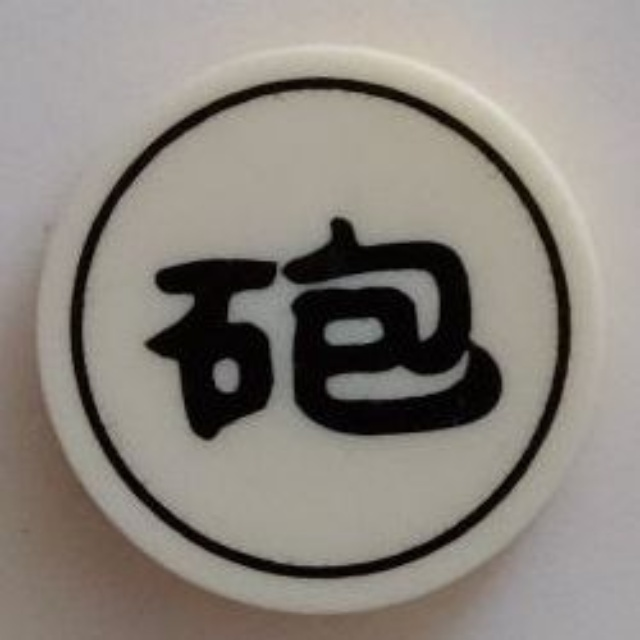black_phao: (37, 46, 626, 622)
